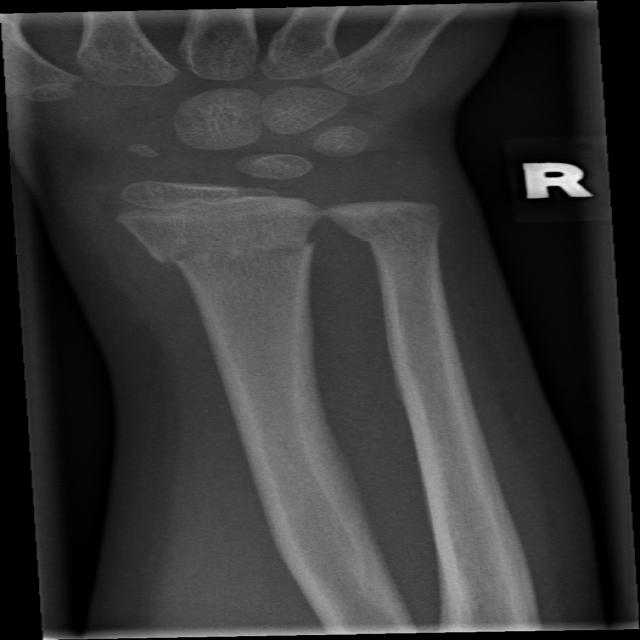radius fracture: (119, 226, 340, 367)
